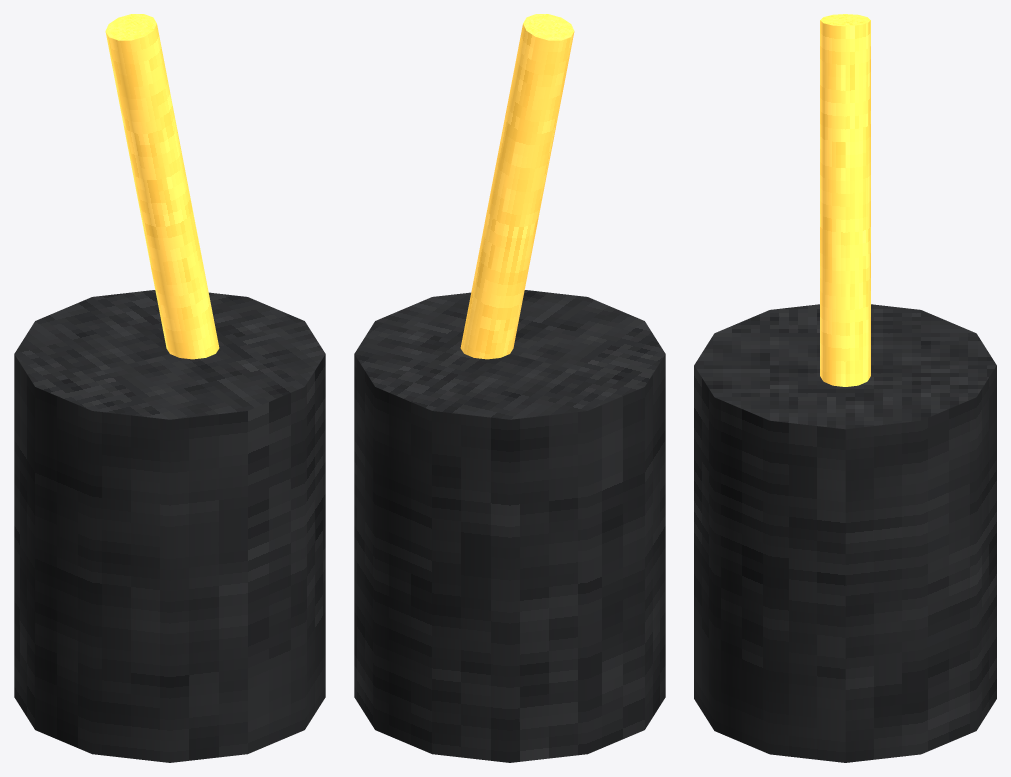
File: directors-pen-jar.glb
3 renders of one model, left to right at view 1: azimuth 30°, elevation 25°; view 2: azimuth 150°, elevation 25°; view 3: azimuth 270°, elevation 25°, orthographic. The views are drawn at different scales.
Visible parts, largest first — view 1: pen jar, gold pen; view 2: pen jar, gold pen; view 3: pen jar, gold pen.
Boxes of the visible parts, x1,y1,x2,y2 form: pen jar: (14,290,325,762); gold pen: (105,14,219,359); pen jar: (354,290,665,762); gold pen: (460,14,574,359); pen jar: (694,304,996,762); gold pen: (820,14,870,386).
Size of the model in its own units: 0.37 by 0.8965 by 0.37.
Materials: 2 (2 with a texture image).
